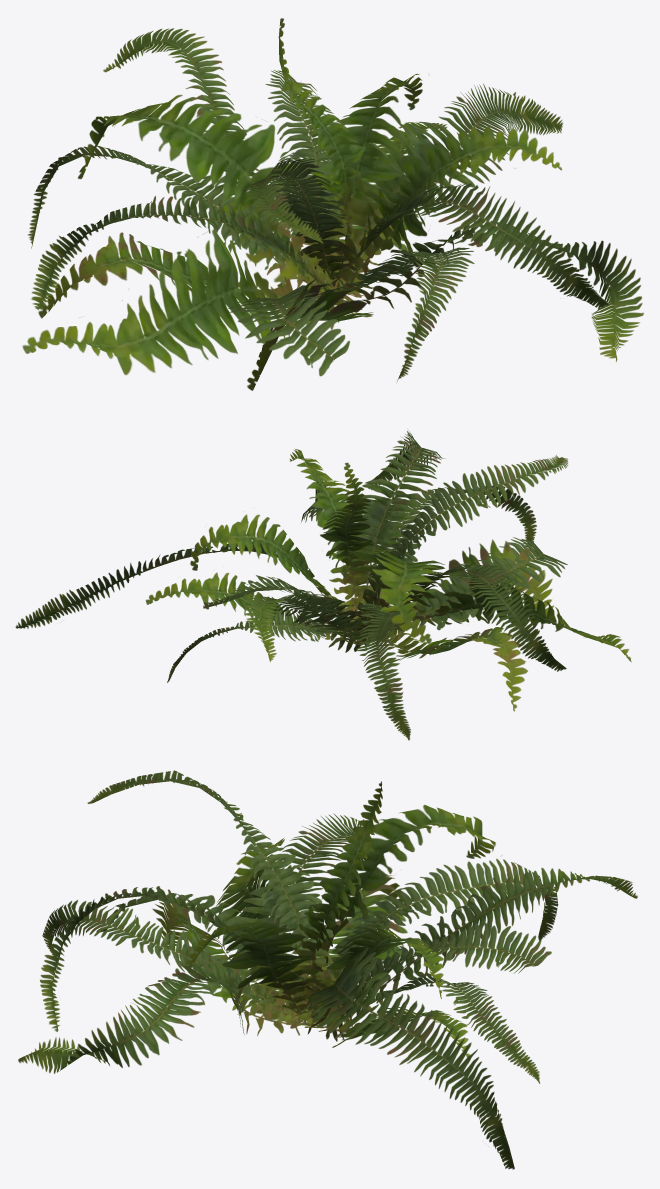
Rendered from fern_02_c.glb.
3 renders of one model, top to bottom at view 1: azimuth 30°, elevation 25°; view 2: azimuth 150°, elevation 25°; view 3: azimuth 270°, elevation 25°, orthographic. The views are drawn at different scales.
Visible parts, largest first — view 1: fern_02_c; view 2: fern_02_c; view 3: fern_02_c.
Boxes of the visible parts, x1,y1,x2,y2 form: fern_02_c: (22, 18, 643, 390); fern_02_c: (15, 430, 631, 740); fern_02_c: (18, 770, 637, 1169).
Bounding box in the file's own units: 0.8743 × 0.349 × 0.7652.
1 material, 1 textured.
